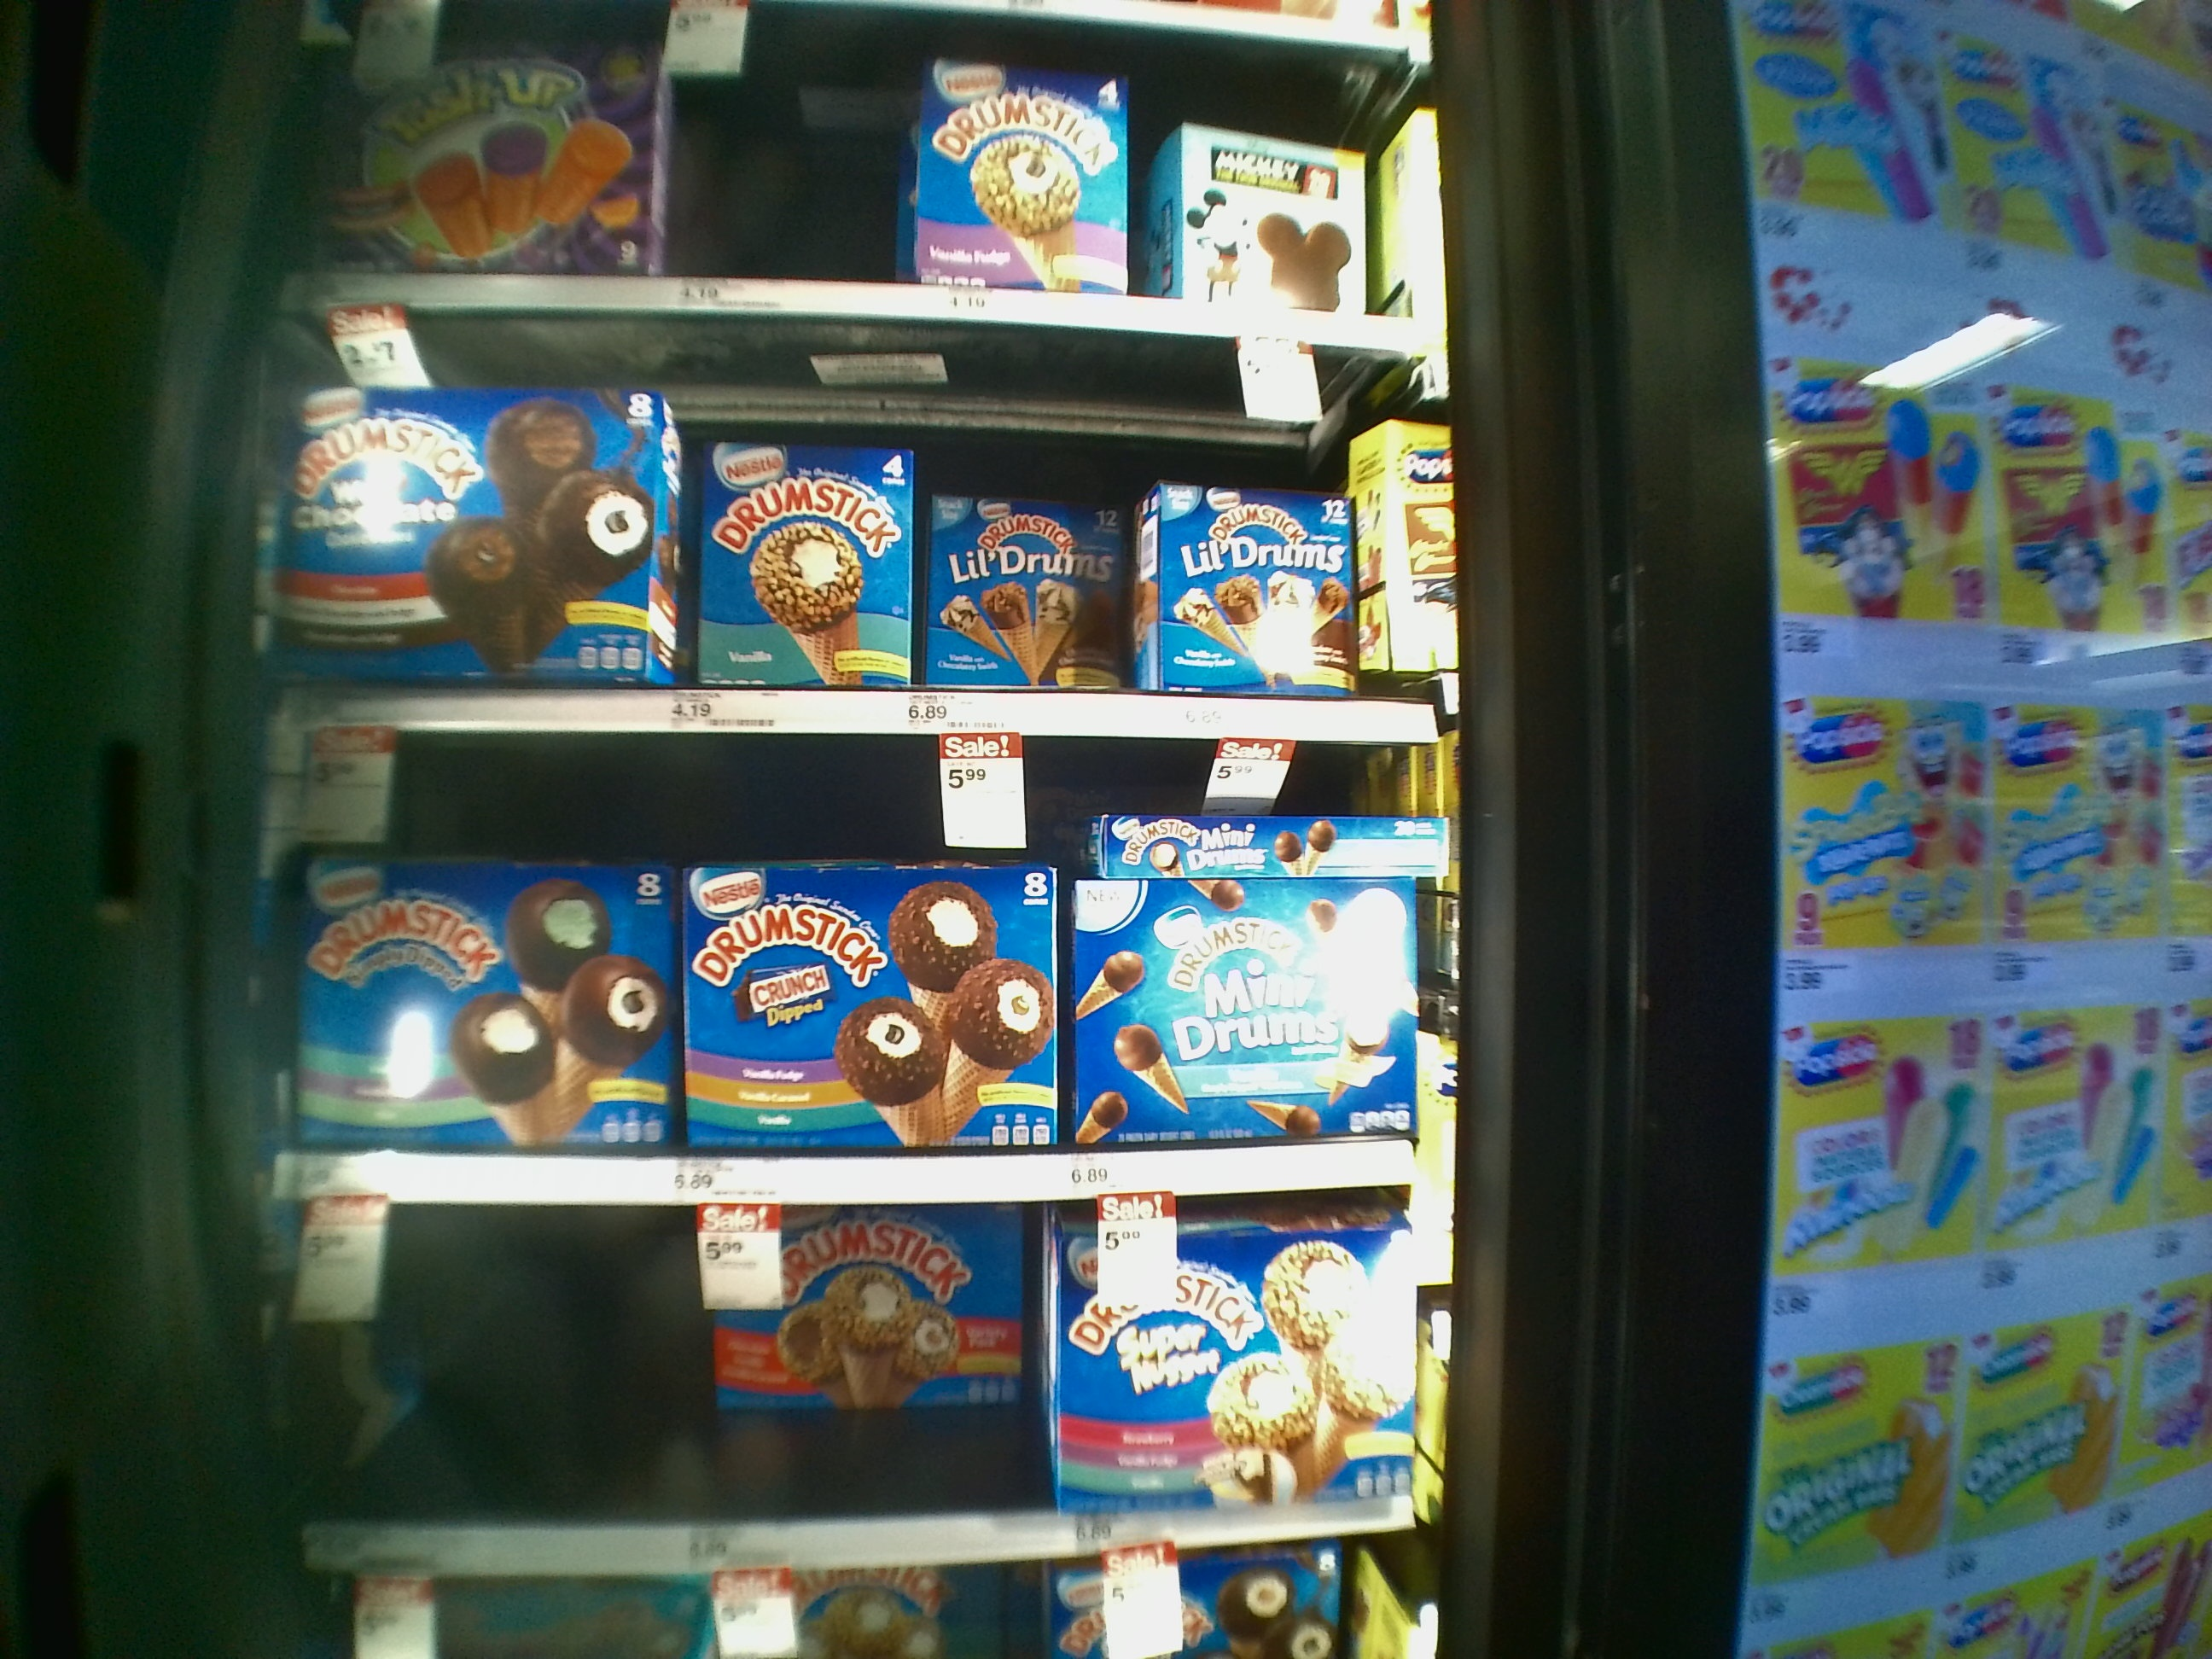shelf: (280, 734, 1474, 1202), (291, 312, 1453, 739), (284, 1206, 1468, 1577)
